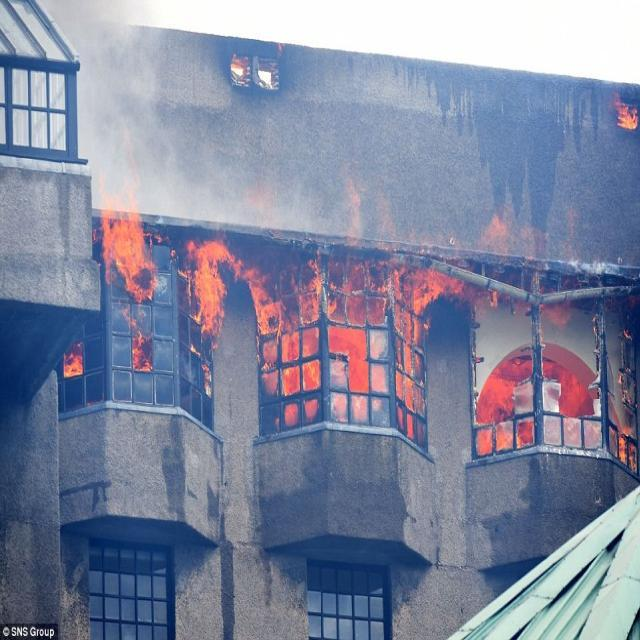Fire: (90, 138, 160, 300), (170, 238, 240, 398), (242, 258, 322, 396), (394, 268, 450, 444), (325, 254, 390, 394), (474, 353, 534, 459), (448, 242, 531, 314), (542, 357, 593, 420), (120, 304, 154, 371), (476, 210, 514, 256), (374, 190, 401, 252), (406, 230, 459, 256), (610, 94, 639, 132), (346, 180, 362, 248), (618, 424, 637, 471), (540, 302, 575, 326), (64, 341, 84, 378), (618, 378, 632, 409), (230, 57, 249, 77), (277, 41, 283, 59), (592, 317, 597, 334)
Smoke: (78, 25, 172, 212), (160, 164, 344, 236)
